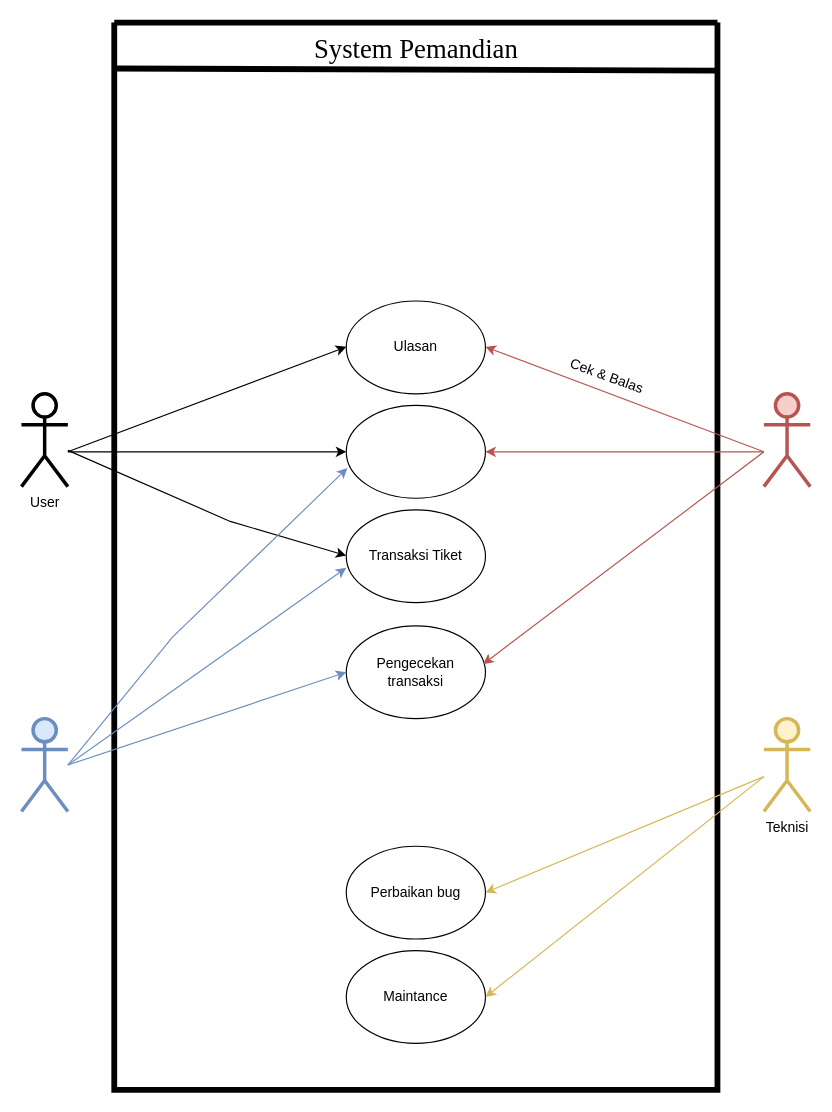
This 832x1112 diagram has some shape labels left out. The centre of each missing label's shape, as x and y in pixels:
Admin: [786,440]
Login: [415,451]
Staff: [44,764]
